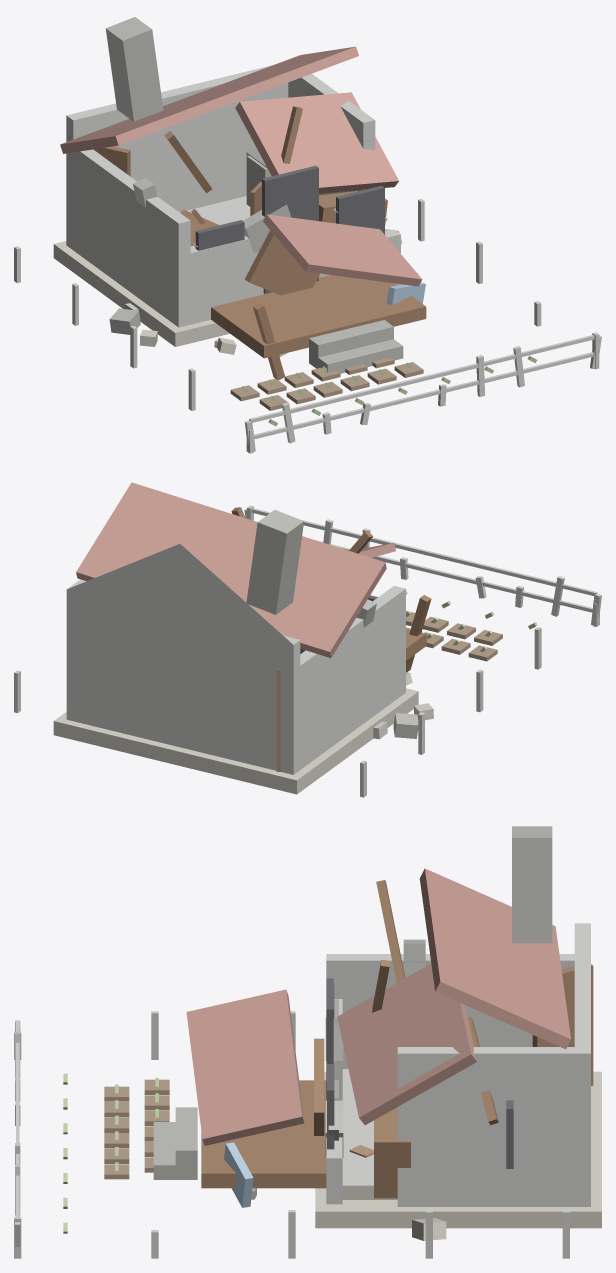
The model's file is dum_kovarikovi_zniceny.glb.
3 views of the same model, one above another, from view 1: azimuth 30°, elevation 25°; view 2: azimuth 150°, elevation 25°; view 3: azimuth 270°, elevation 25° (orthographic). The views are drawn at different scales.
Parts seen in each view (by area): view 1: dum_kovarikovi_zniceny_grey, dum_kovarikovi_zniceny_roof2, dum_kovarikovi_zniceny_wood2, dum_kovarikovi_zniceny_grey3, dum_kovarikovi_zniceny_black, dum_kovarikovi_zniceny_stone2, dum_kovarikovi_zniceny_mud2, dum_kovarikovi_zniceny_blue2, dum_kovarikovi_zniceny_moss; view 2: dum_kovarikovi_zniceny_grey, dum_kovarikovi_zniceny_roof2, dum_kovarikovi_zniceny_stone2, dum_kovarikovi_zniceny_grey3, dum_kovarikovi_zniceny_wood2, dum_kovarikovi_zniceny_mud2; view 3: dum_kovarikovi_zniceny_grey, dum_kovarikovi_zniceny_roof2, dum_kovarikovi_zniceny_wood2, dum_kovarikovi_zniceny_grey3, dum_kovarikovi_zniceny_stone2, dum_kovarikovi_zniceny_mud2, dum_kovarikovi_zniceny_black, dum_kovarikovi_zniceny_blue2, dum_kovarikovi_zniceny_moss.
Boxes of the visible parts, left/top/right/bottom form: dum_kovarikovi_zniceny_grey: left=14, top=65, right=601, bottom=453; dum_kovarikovi_zniceny_roof2: left=60, top=46, right=422, bottom=286; dum_kovarikovi_zniceny_wood2: left=93, top=106, right=426, bottom=380; dum_kovarikovi_zniceny_grey3: left=105, top=17, right=403, bottom=373; dum_kovarikovi_zniceny_black: left=195, top=165, right=384, bottom=293; dum_kovarikovi_zniceny_stone2: left=53, top=229, right=417, bottom=354; dum_kovarikovi_zniceny_mud2: left=230, top=357, right=423, bottom=410; dum_kovarikovi_zniceny_blue2: left=386, top=282, right=425, bottom=305; dum_kovarikovi_zniceny_moss: left=241, top=356, right=537, bottom=426; dum_kovarikovi_zniceny_grey: left=14, top=505, right=601, bottom=797; dum_kovarikovi_zniceny_roof2: left=76, top=482, right=395, bottom=657; dum_kovarikovi_zniceny_stone2: left=53, top=672, right=433, bottom=794; dum_kovarikovi_zniceny_grey3: left=246, top=510, right=418, bottom=738; dum_kovarikovi_zniceny_wood2: left=231, top=507, right=431, bottom=771; dum_kovarikovi_zniceny_mud2: left=406, top=610, right=502, bottom=661; dum_kovarikovi_zniceny_grey: left=14, top=923, right=590, bottom=1258; dum_kovarikovi_zniceny_roof2: left=186, top=868, right=570, bottom=1145; dum_kovarikovi_zniceny_wood2: left=201, top=880, right=593, bottom=1198; dum_kovarikovi_zniceny_grey3: left=153, top=826, right=552, bottom=1199; dum_kovarikovi_zniceny_stone2: left=315, top=1071, right=601, bottom=1240; dum_kovarikovi_zniceny_mud2: left=104, top=1079, right=169, bottom=1179; dum_kovarikovi_zniceny_black: left=326, top=978, right=513, bottom=1168; dum_kovarikovi_zniceny_blue2: left=224, top=1142, right=253, bottom=1207; dum_kovarikovi_zniceny_moss: left=63, top=1073, right=158, bottom=1233.
Size of the model in its own units: 6.57 by 4.5 by 8.
